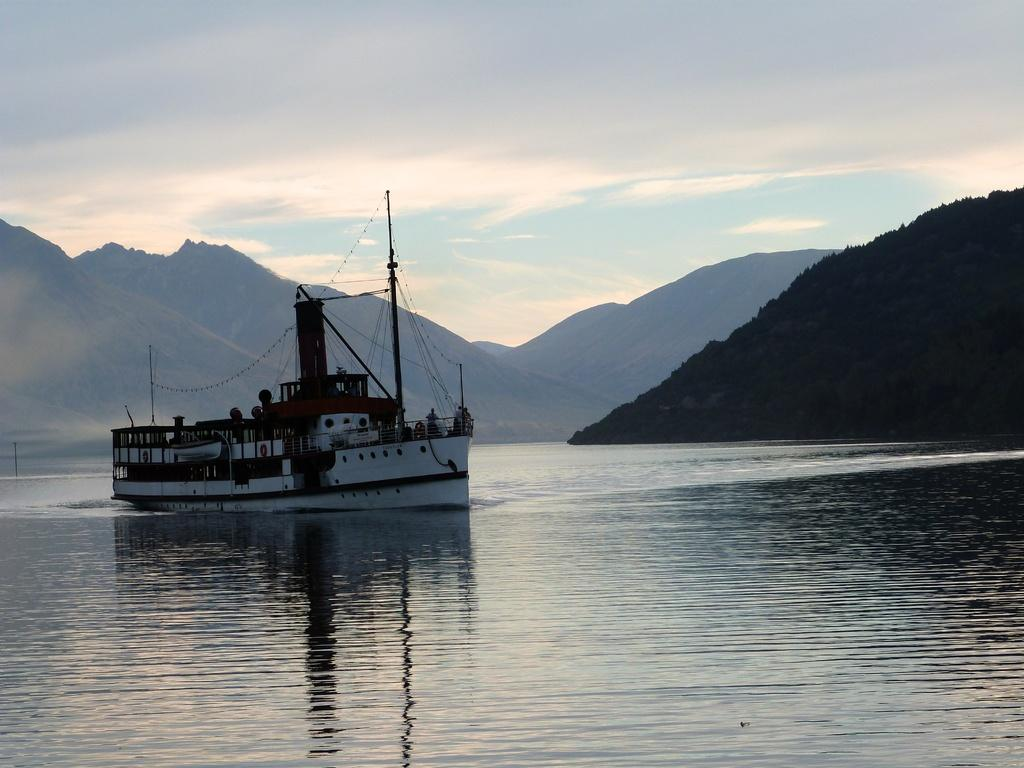PassengerShip: (102, 298, 478, 516)
